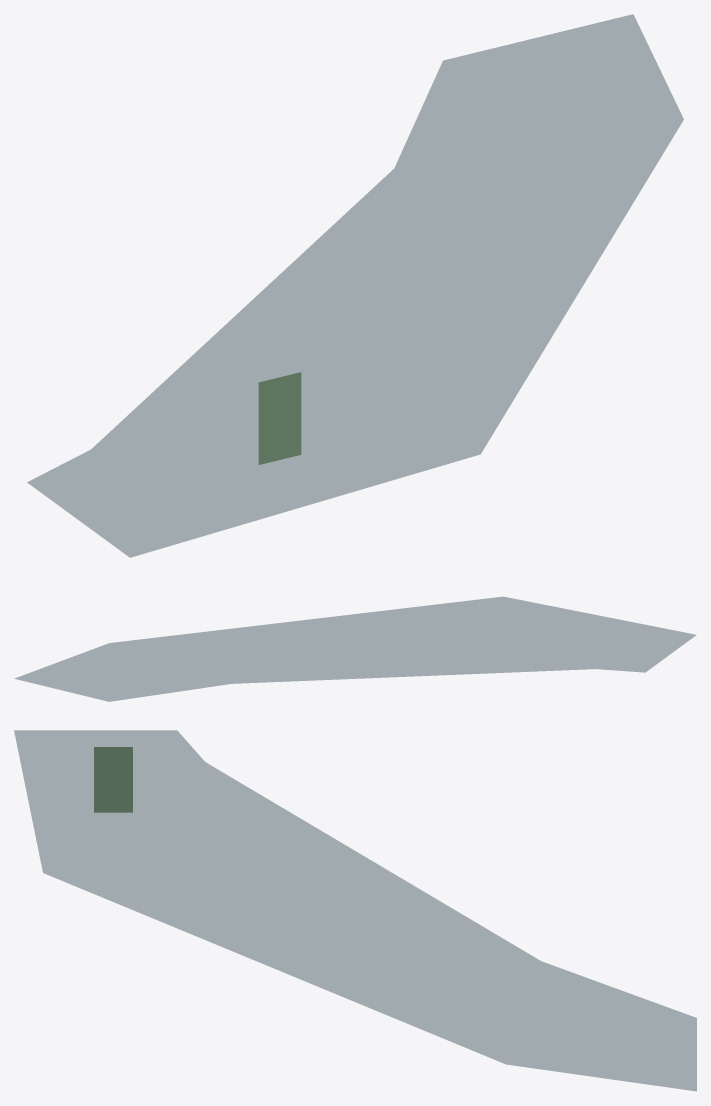
3 views of the same model, one above another, from view 1: azimuth 30°, elevation 25°; view 2: azimuth 150°, elevation 25°; view 3: azimuth 270°, elevation 25° (orthographic). The views are drawn at different scales.
Bounding box in the file's own units: 65.9 × 5.7 × 52.67.
